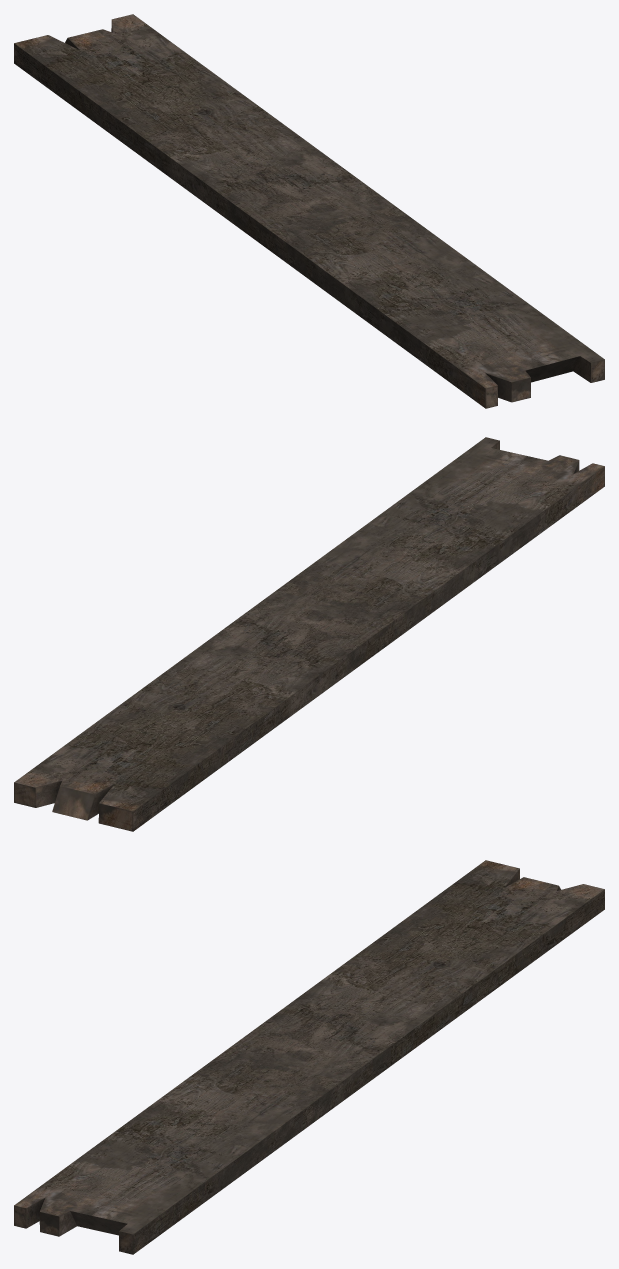
Rendered from SM_WoodBoard_02.glb.
The picture shows the model from 3 angles, top to bottom: view 1: azimuth 30°, elevation 25°; view 2: azimuth 150°, elevation 25°; view 3: azimuth 330°, elevation 25°; orthographic projection.
Visible parts, largest first — view 1: SM_WoodBoard_02; view 2: SM_WoodBoard_02; view 3: SM_WoodBoard_02.
Boxes of the visible parts, left/top/right/bottom form: SM_WoodBoard_02: left=14, top=14, right=604, bottom=408; SM_WoodBoard_02: left=14, top=437, right=604, bottom=831; SM_WoodBoard_02: left=14, top=860, right=604, bottom=1254.
Size of the model in its own units: 0.1881 by 0.0305 by 1.29.
Materials: 1 (1 with a texture image).
